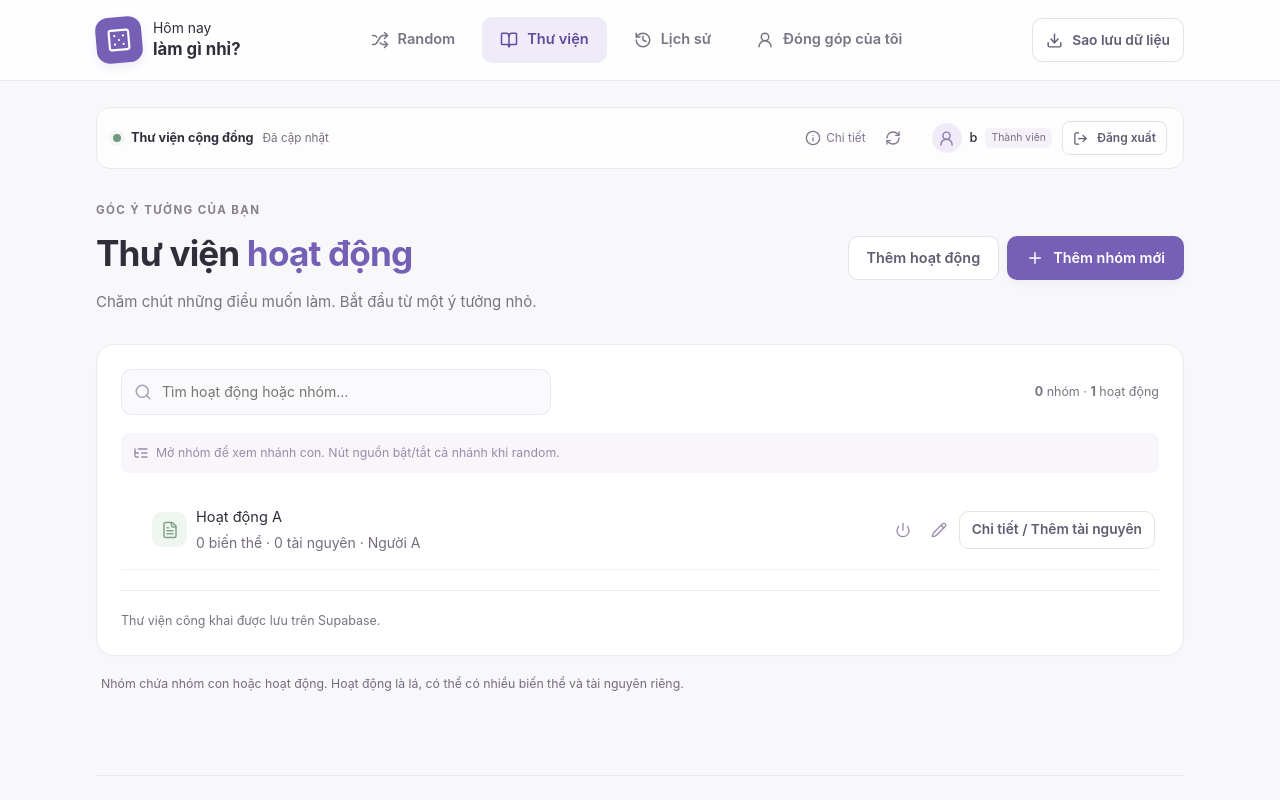
Test case: UI cộng đồng › URL nguy hiểm không gửi lên dịch vụ
This screenshot has width=1280, height=800.
Check: the button named "Tải lại thư viện" is enabled, box x1=878 y1=120 x2=908 y2=156
Click the button "Chi tiết / Thêm tài nguyên" at (1057, 530), box x1=959 y1=511 x2=1155 y2=549
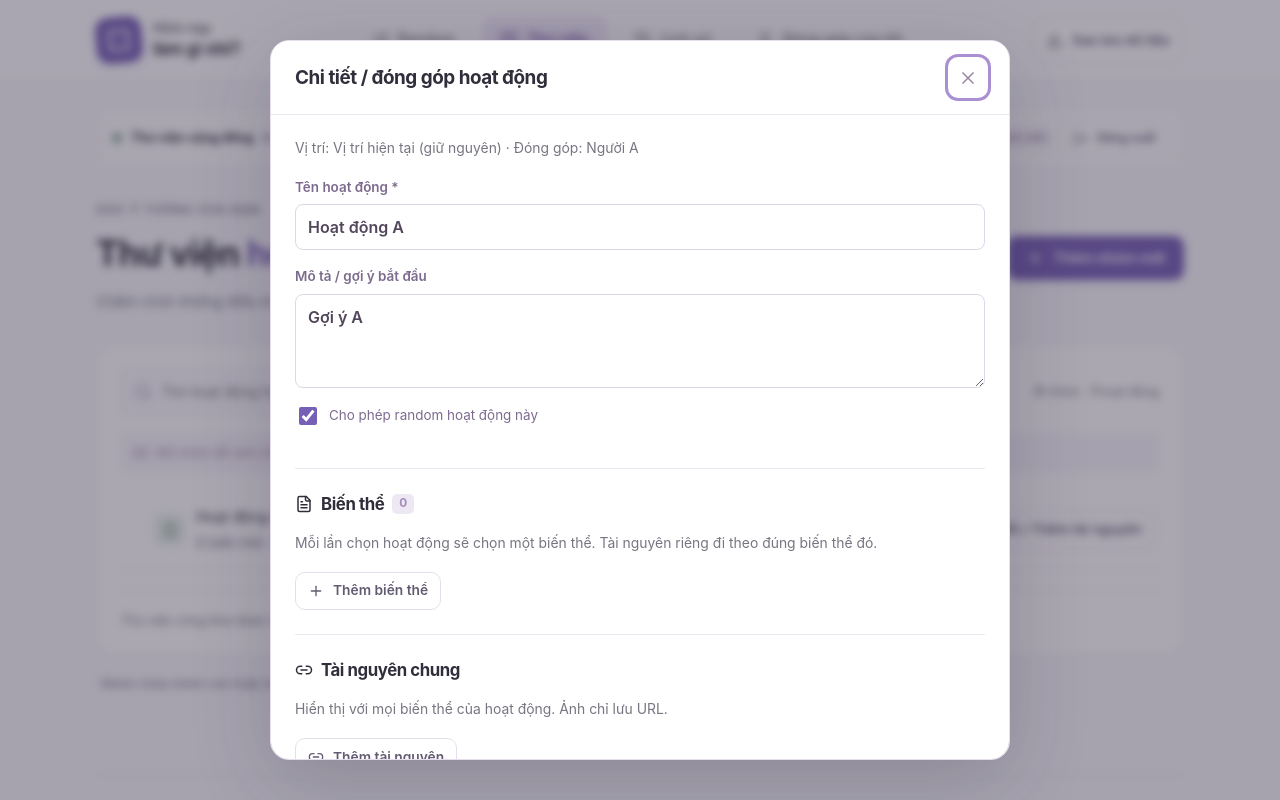
Click the button "Thêm tài nguyên" at (376, 757), box x1=295 y1=738 x2=457 y2=776
(page scrolled)
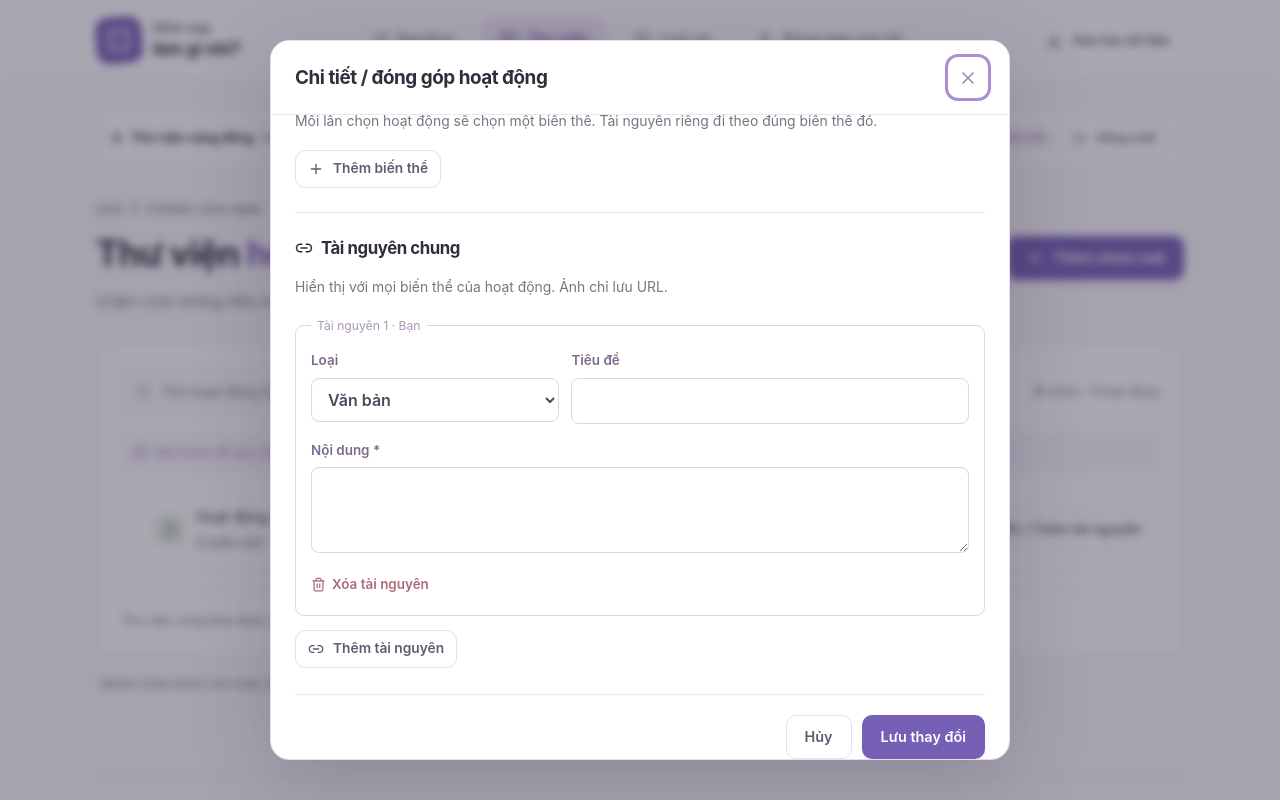
Select "Liên kết" in the dropdown labelled "Loại" at (435, 400), box x1=311 y1=378 x2=560 y2=422
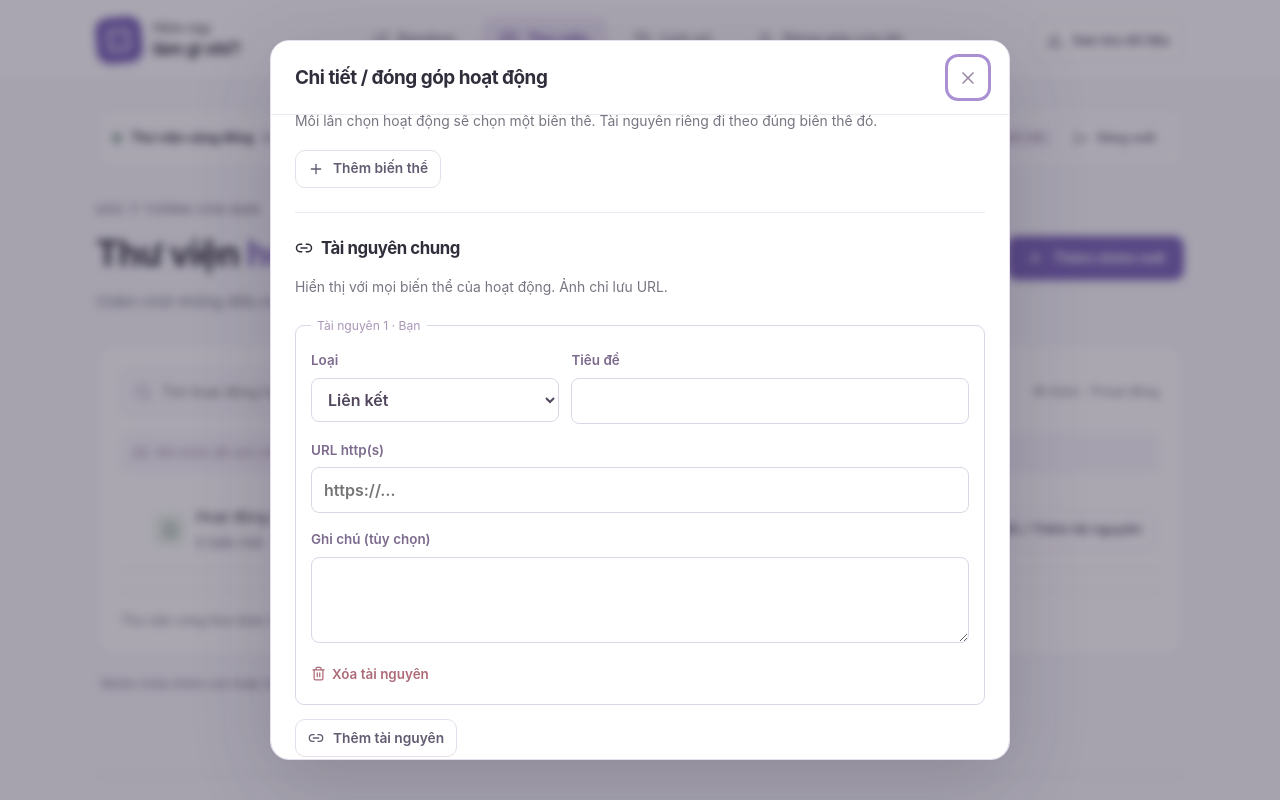
Type "Xấu" into the field labelled "Tiêu đề" at (770, 401), box x1=572 y1=378 x2=969 y2=424
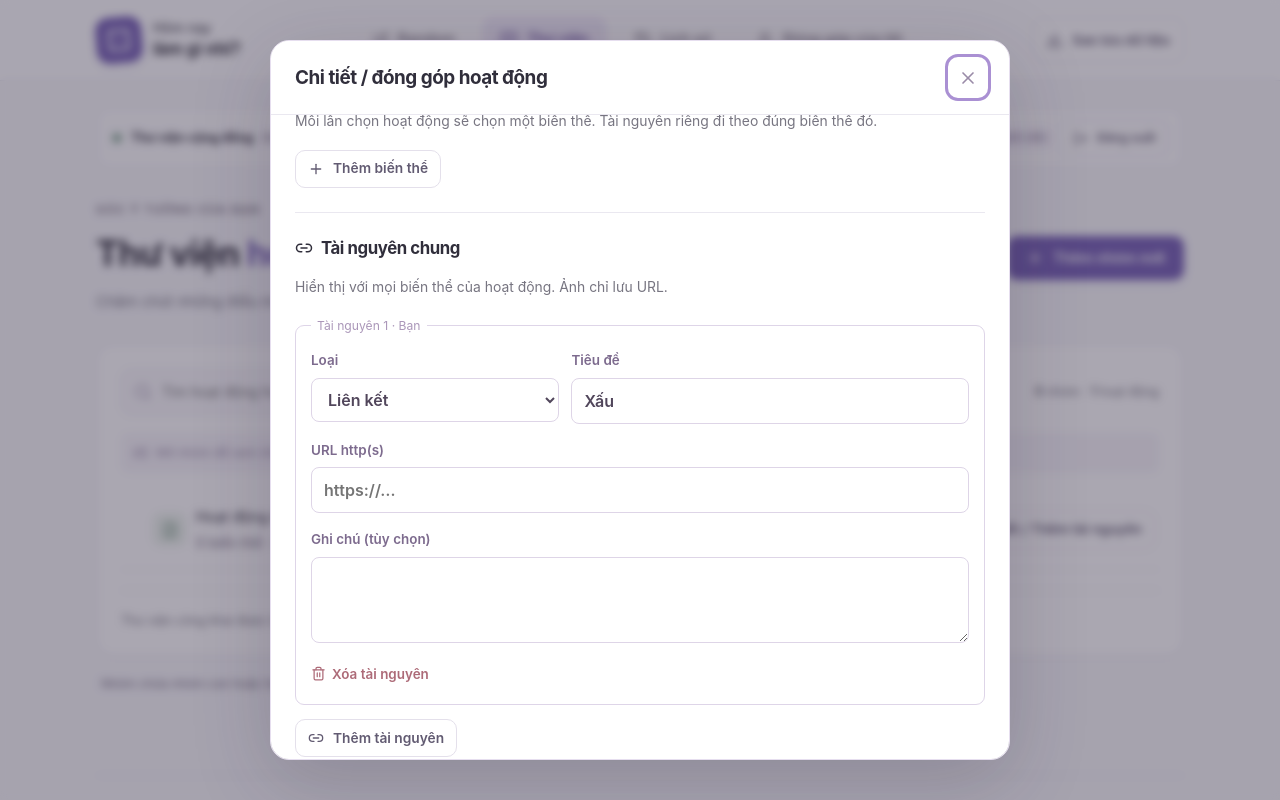
Type "javascript:alert(1)" into the field labelled "URL http(s)" at (640, 490), box x1=311 y1=467 x2=969 y2=513
(page scrolled)
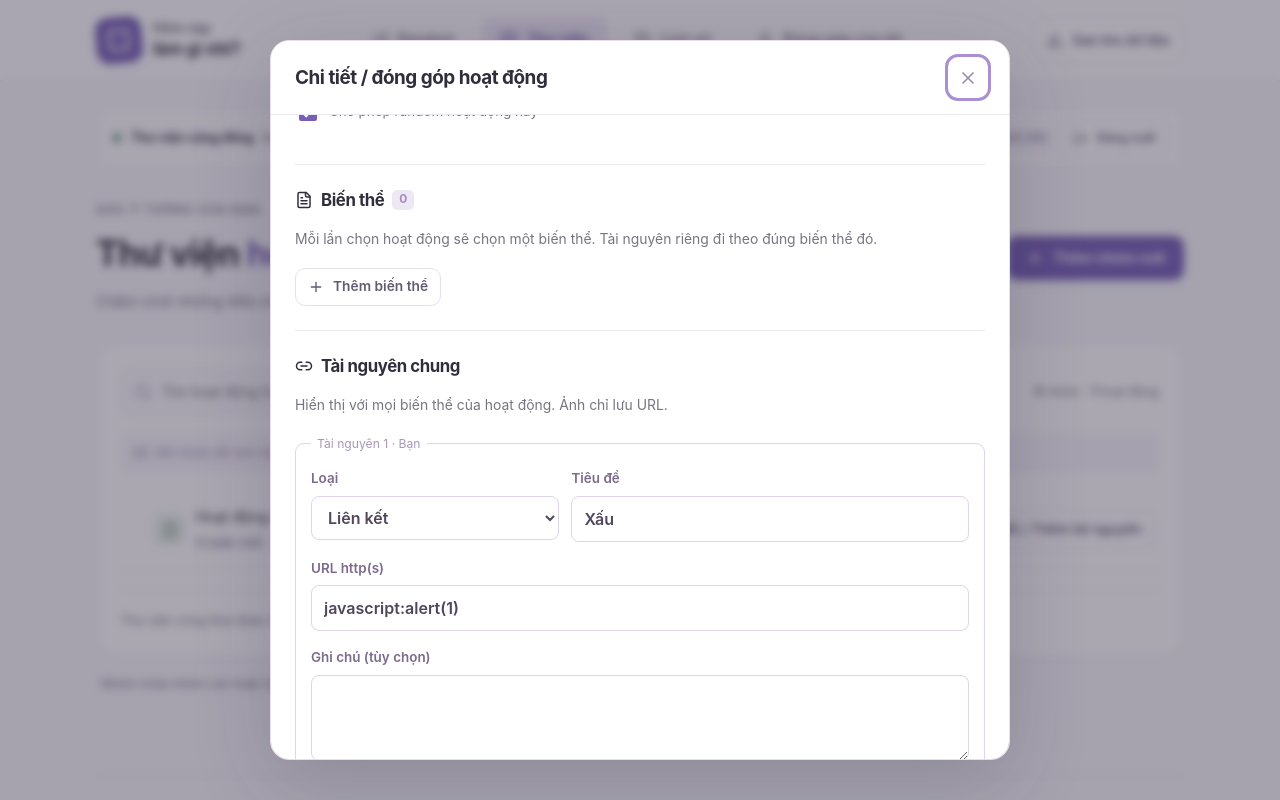
Submit the form named "Lưu thay đổi"
(page scrolled)
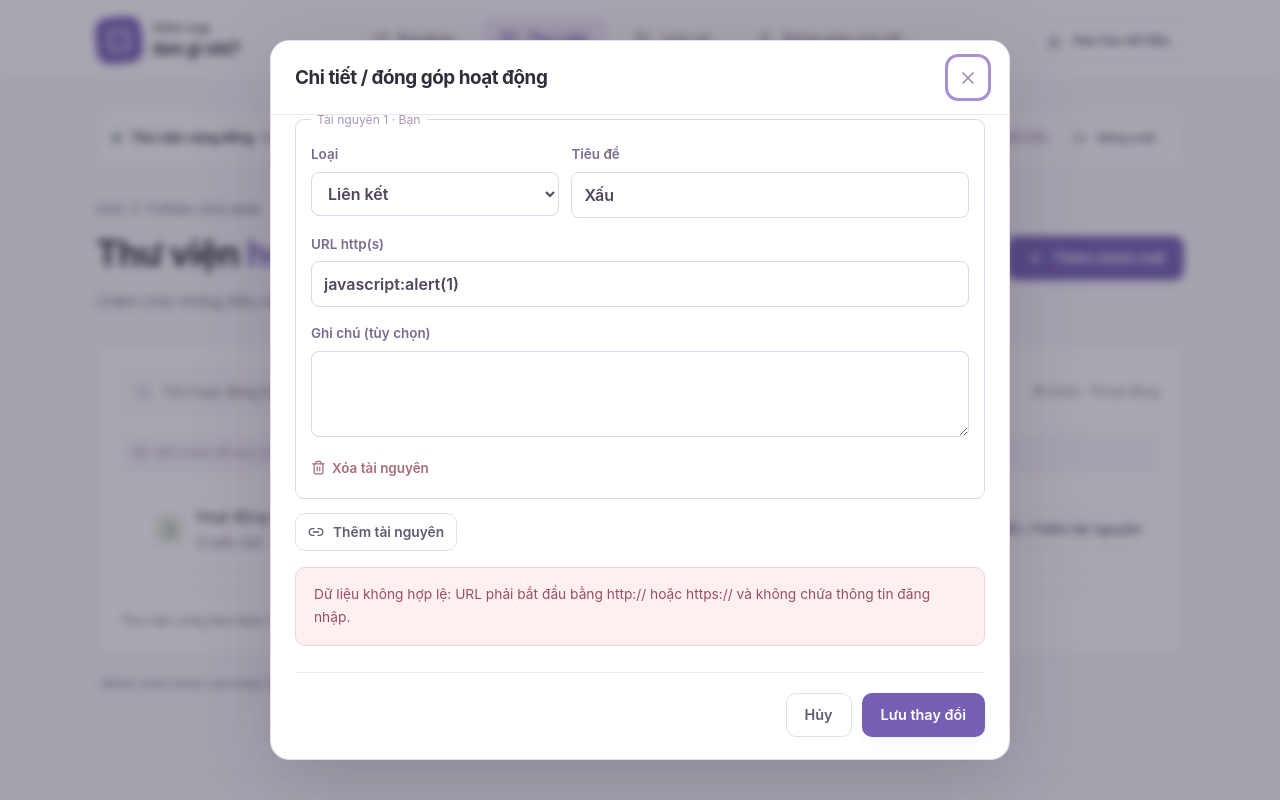
Check: the message is shown, box x1=295 y1=567 x2=985 y2=646
